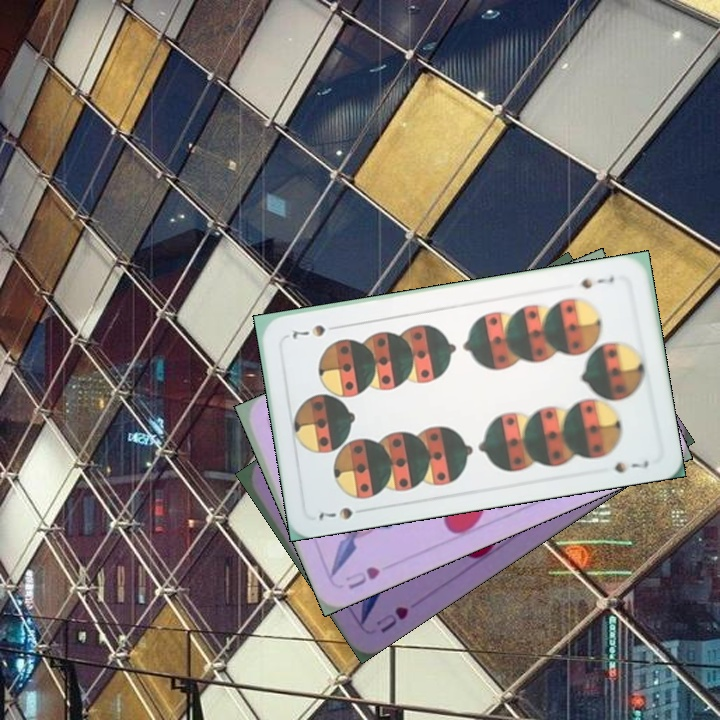HU: (341, 562, 383, 593), (372, 602, 411, 635)
S7: (314, 503, 355, 524), (573, 272, 617, 291)
